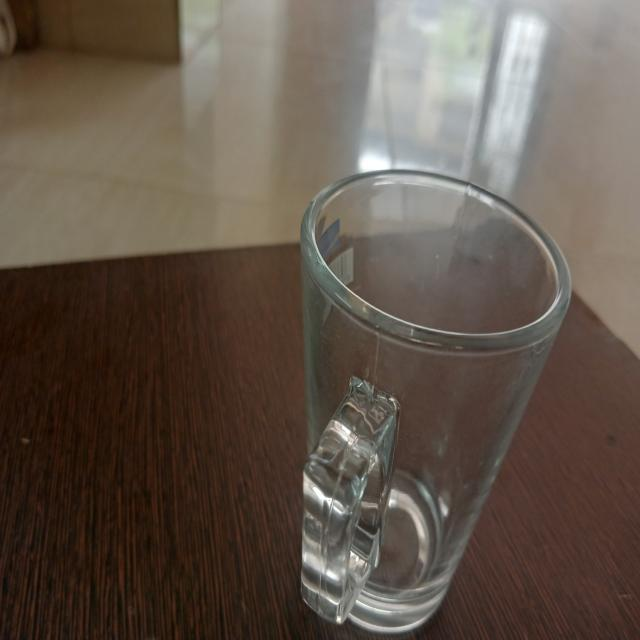glass-VX4N: (302, 170, 572, 638)
